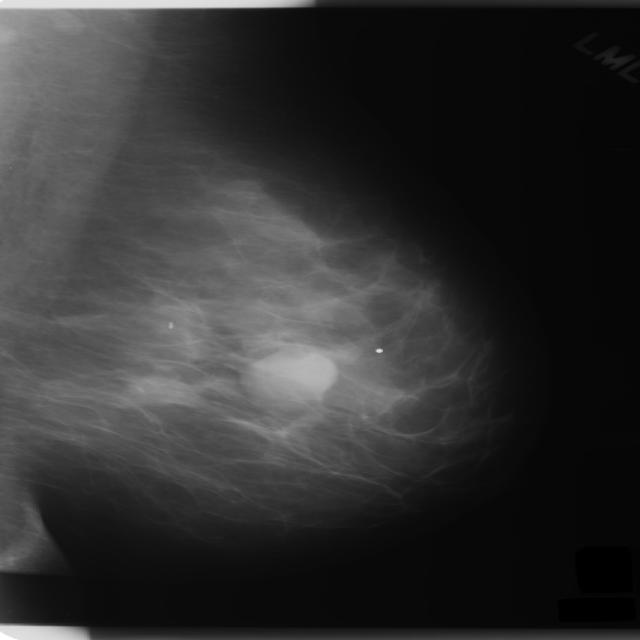tumour: (239, 343, 336, 402)
